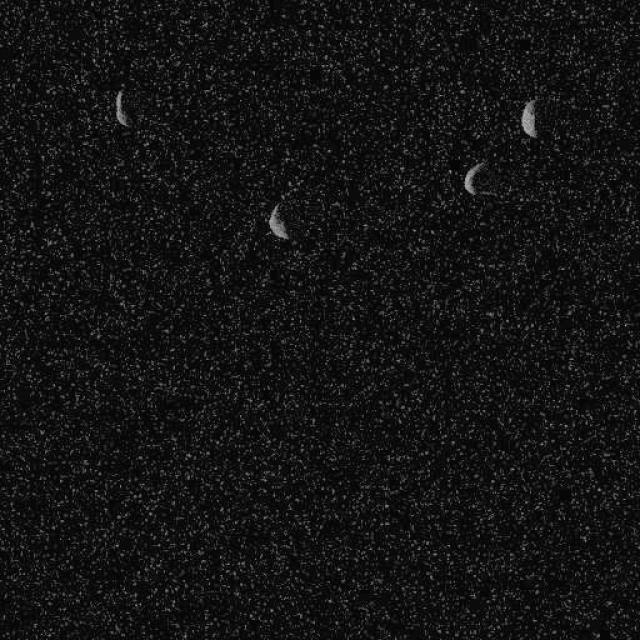D2: (462, 160, 487, 196), (266, 201, 289, 240), (518, 99, 538, 138), (114, 88, 130, 128)
